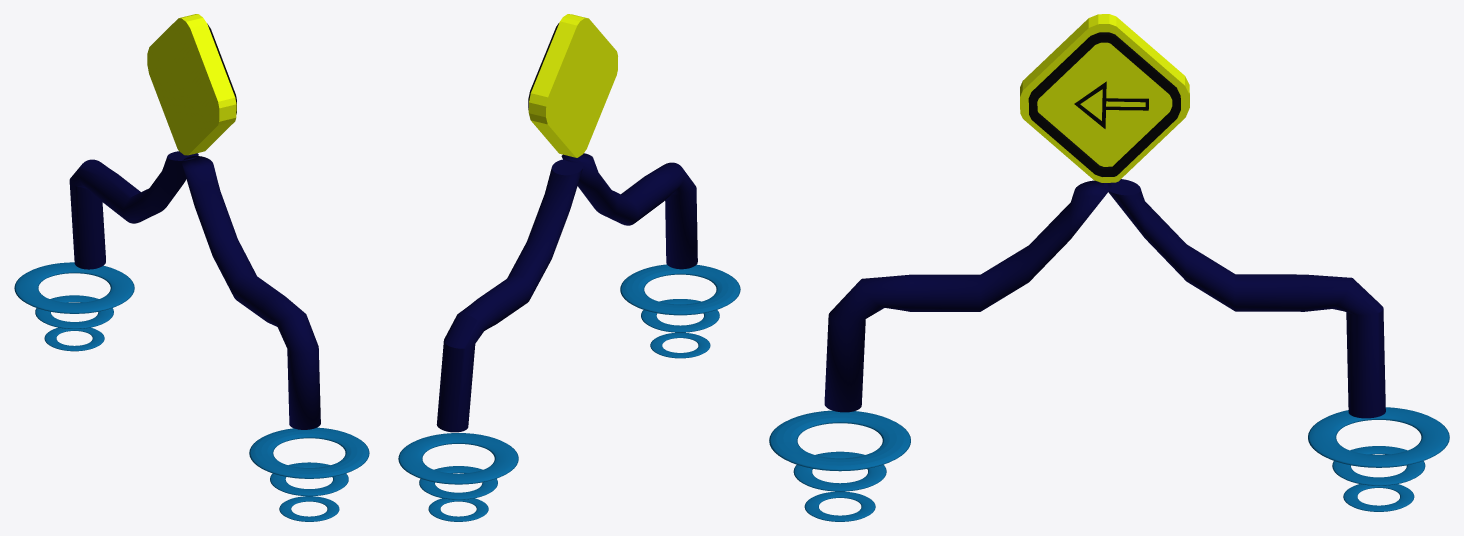
File: placa curva a esquerda .fbx
3 renders of one model, left to right at view 1: azimuth 30°, elevation 25°; view 2: azimuth 150°, elevation 25°; view 3: azimuth 270°, elevation 25°, orthographic. The views are drawn at different scales.
Parts seen in each view (by area): view 1: Cylinder.001, Cube, Cylinder, Torus.001, Torus.005, Torus.004, Torus.002, Torus.006, Torus.003; view 2: Cylinder, Cube, Cylinder.001, Torus.005, Torus.001, Torus.004, Torus.002, Torus.006, Torus.003; view 3: Cube, Cylinder, Cylinder.001, Torus.001, Cube.003, Torus.005, Torus.004, Torus.002, Torus.006, Torus.003.
Boxes of the visible parts, box(x1,y1,x2,y2) form: Cylinder.001: box(182, 156, 320, 429); Cube: box(147, 14, 236, 155); Cylinder: box(69, 151, 198, 269); Torus.001: box(249, 427, 369, 478); Torus.005: box(14, 262, 134, 313); Torus.004: box(35, 295, 113, 328); Torus.002: box(270, 462, 348, 496); Torus.006: box(279, 496, 339, 521); Torus.003: box(44, 327, 104, 351); Cylinder: box(436, 158, 583, 432); Cube: box(528, 14, 617, 157); Cylinder.001: box(561, 153, 697, 269); Torus.005: box(398, 433, 518, 484); Torus.001: box(620, 264, 740, 315); Torus.004: box(419, 466, 497, 499); Torus.002: box(641, 299, 719, 332); Torus.006: box(650, 332, 710, 358); Torus.003: box(428, 498, 488, 521); Cube: box(1020, 14, 1189, 182); Cylinder: box(1104, 179, 1385, 418); Cylinder.001: box(824, 180, 1111, 412); Torus.001: box(769, 410, 910, 471); Cube.003: box(1028, 32, 1180, 176); Torus.005: box(1308, 407, 1449, 467); Torus.004: box(1332, 446, 1425, 485); Torus.002: box(793, 451, 886, 491); Torus.006: box(804, 491, 875, 521); Torus.003: box(1343, 484, 1414, 511).
Size of the model in its own units: 266 by 944 by 1198.
